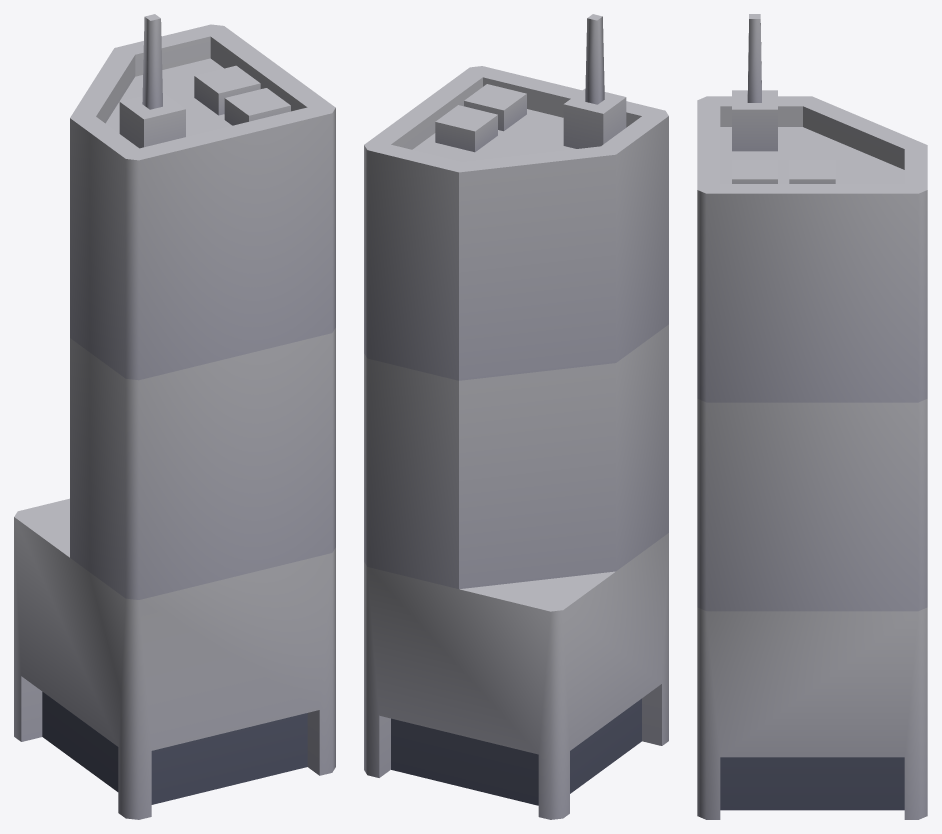
The model's file is low-detail-building-j.glb.
The picture shows the model from 3 angles, left to right: view 1: azimuth 30°, elevation 25°; view 2: azimuth 150°, elevation 25°; view 3: azimuth 270°, elevation 25°; orthographic projection. The views are drawn at different scales.
Visible parts, largest first — view 1: low-detail-building-j; view 2: low-detail-building-j; view 3: low-detail-building-j.
Part boxes in pixels (x1,y1,x2,y2): low-detail-building-j: [14, 14, 335, 819]; low-detail-building-j: [364, 14, 668, 819]; low-detail-building-j: [697, 14, 927, 819].
Size of the model in its own units: 0.5 by 1.75 by 0.5.
